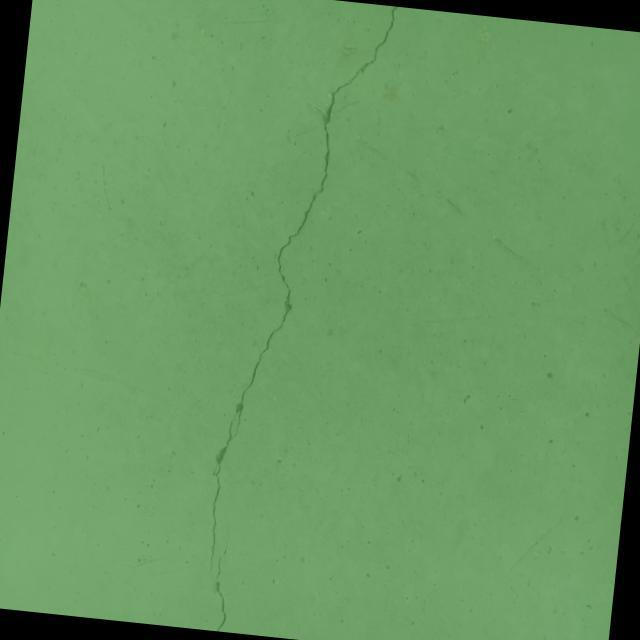crack: (195, 0, 398, 640)
